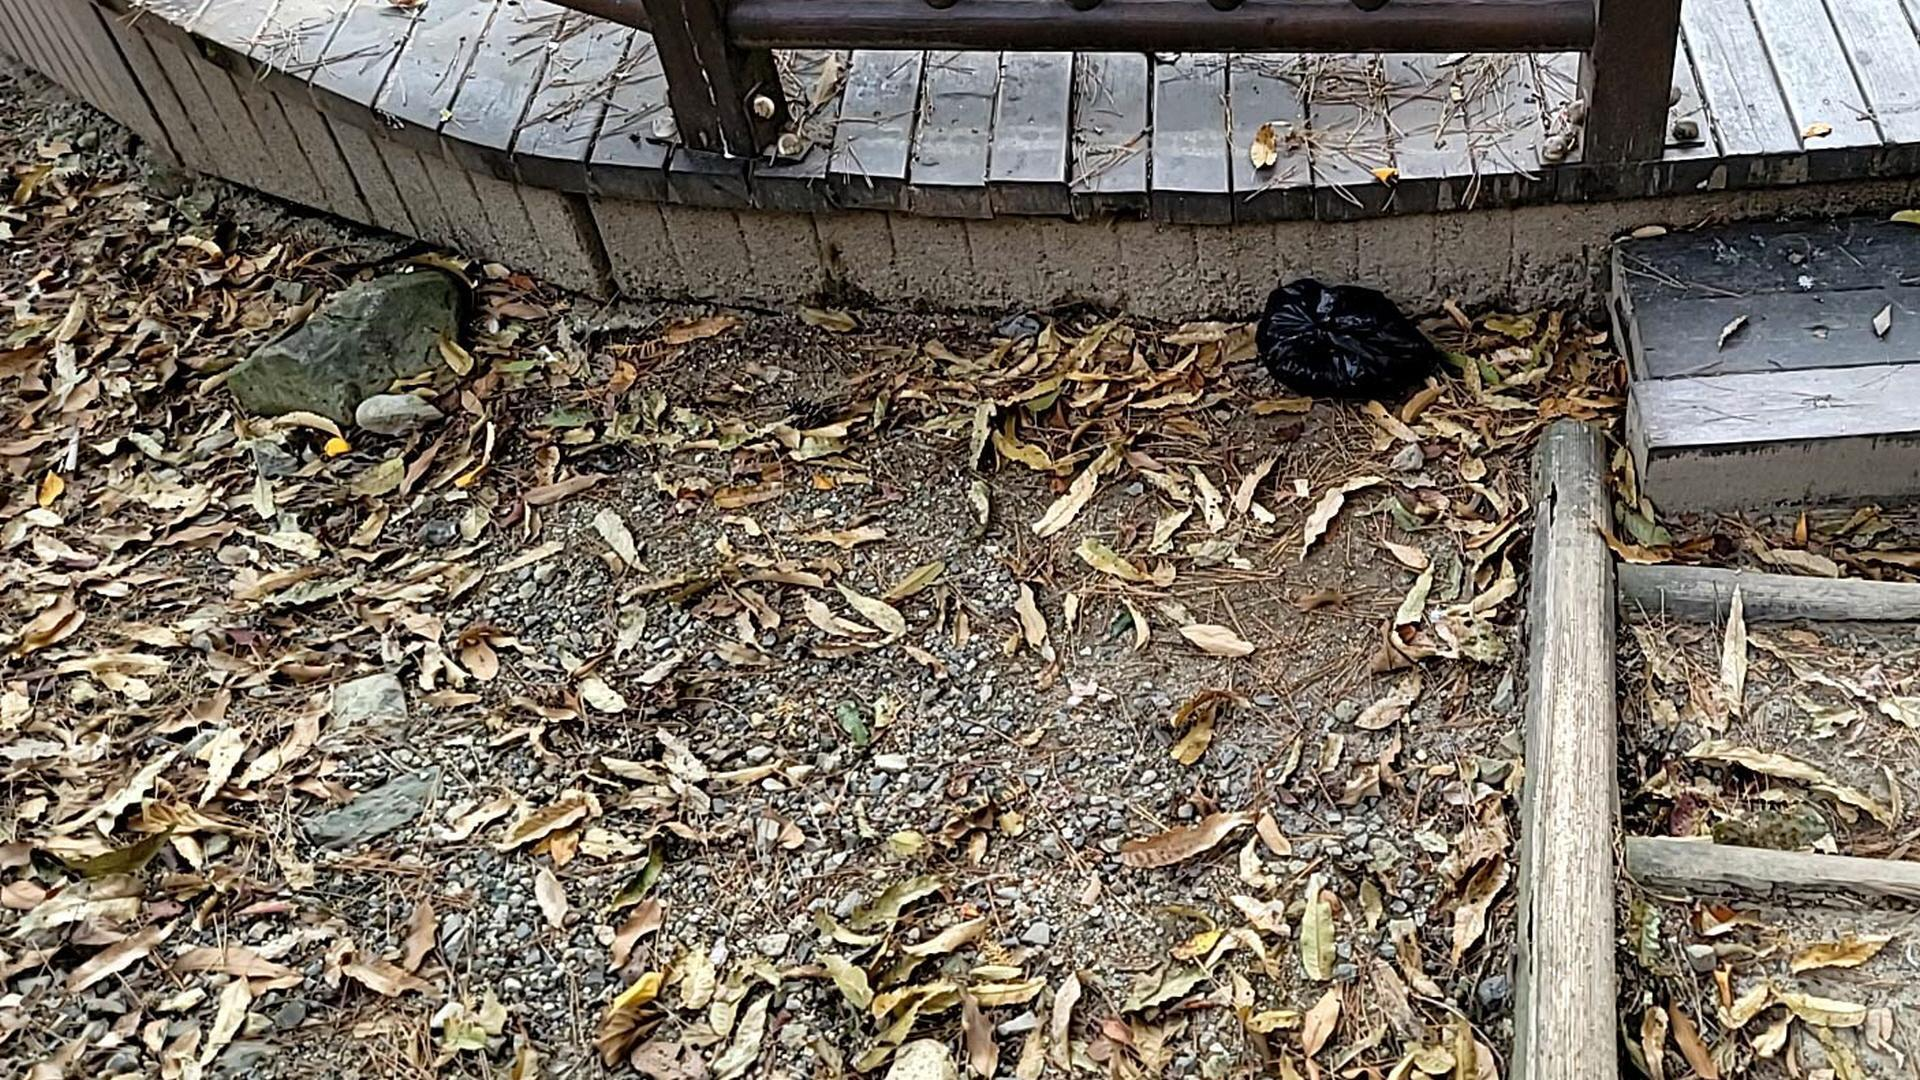black_bag: (1251, 272, 1458, 422)
